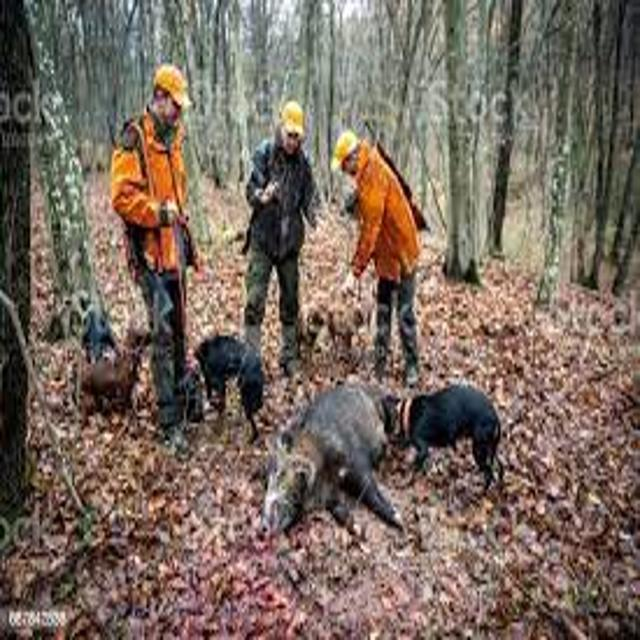dog: (357, 357, 529, 529), (159, 309, 289, 459)
poacher: (76, 39, 232, 453), (309, 98, 457, 401), (214, 83, 346, 408)
